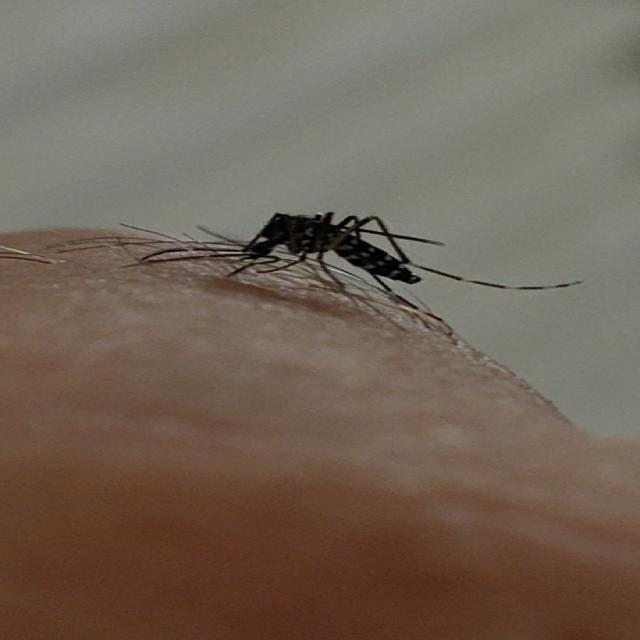albopictus: (98, 193, 578, 367)
